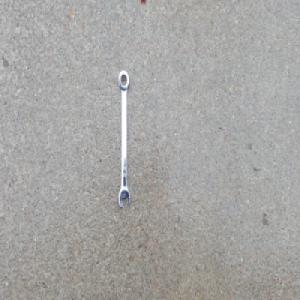Wrench: (117, 67, 131, 208)
